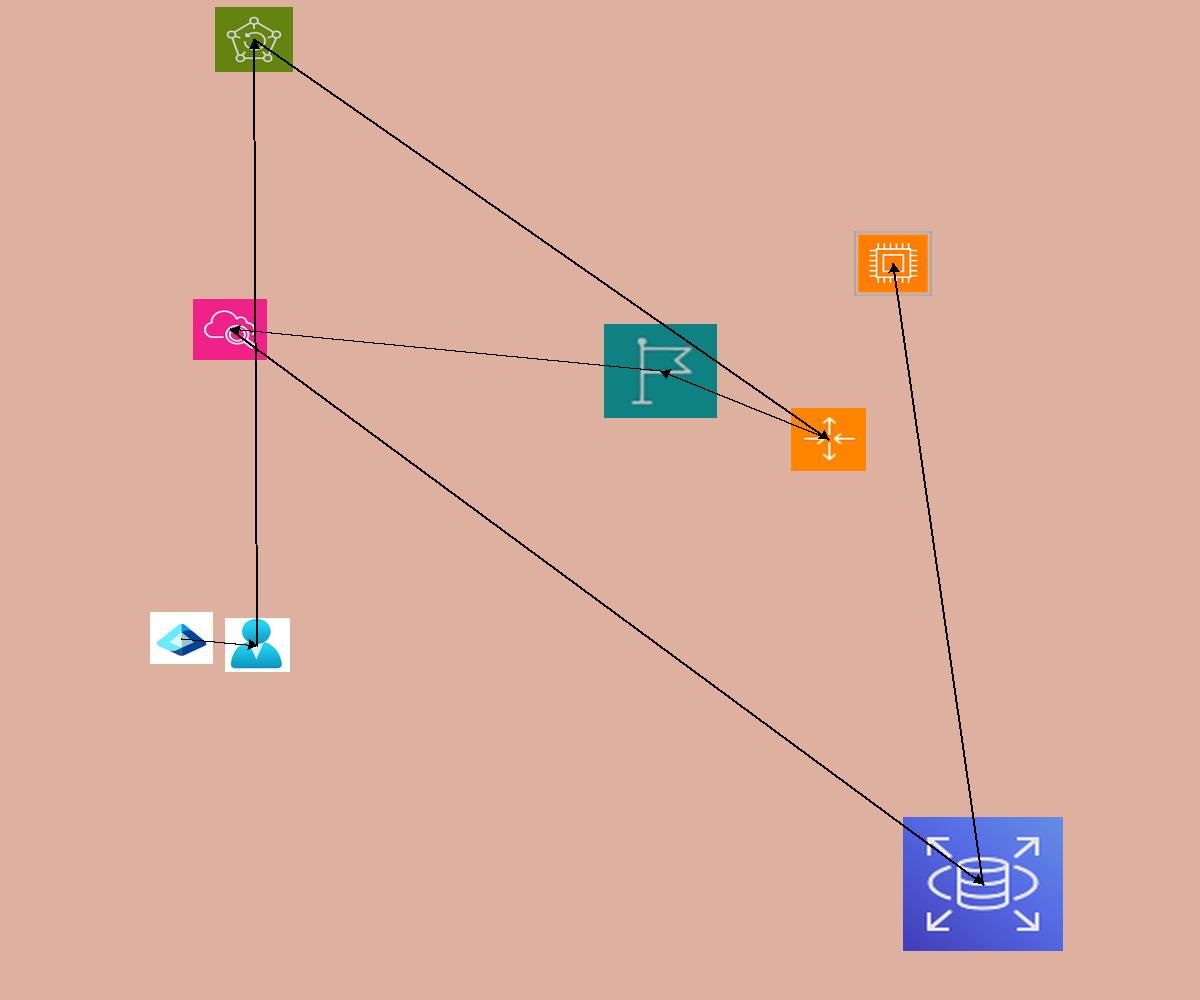AWS-Backup: (215, 7, 293, 72)
AWS-Category_Compute: (854, 231, 932, 296)
AWS-CloudWatch: (193, 299, 267, 360)
AWS-RDS: (903, 817, 1063, 951)
AWS-Region: (604, 324, 717, 418)
AWS-Scaling-group: (791, 408, 866, 471)
Azure_microsoft_entra: (150, 612, 213, 664)
Azure_users: (225, 618, 290, 672)
